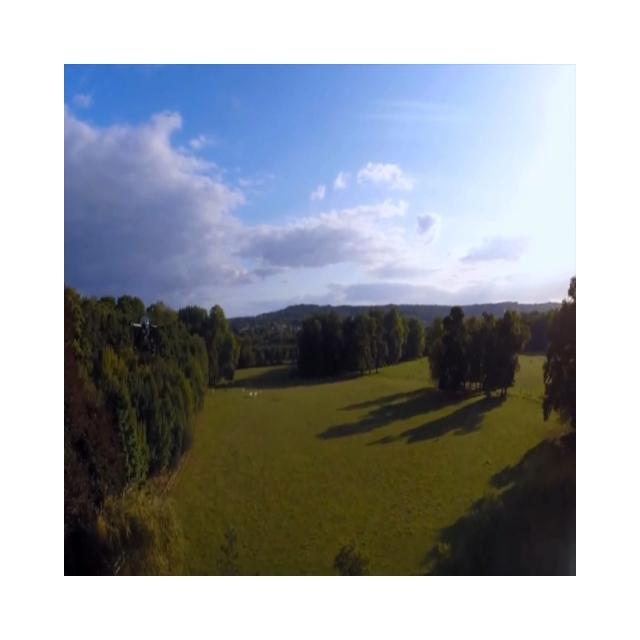drone: (128, 305, 163, 358)
